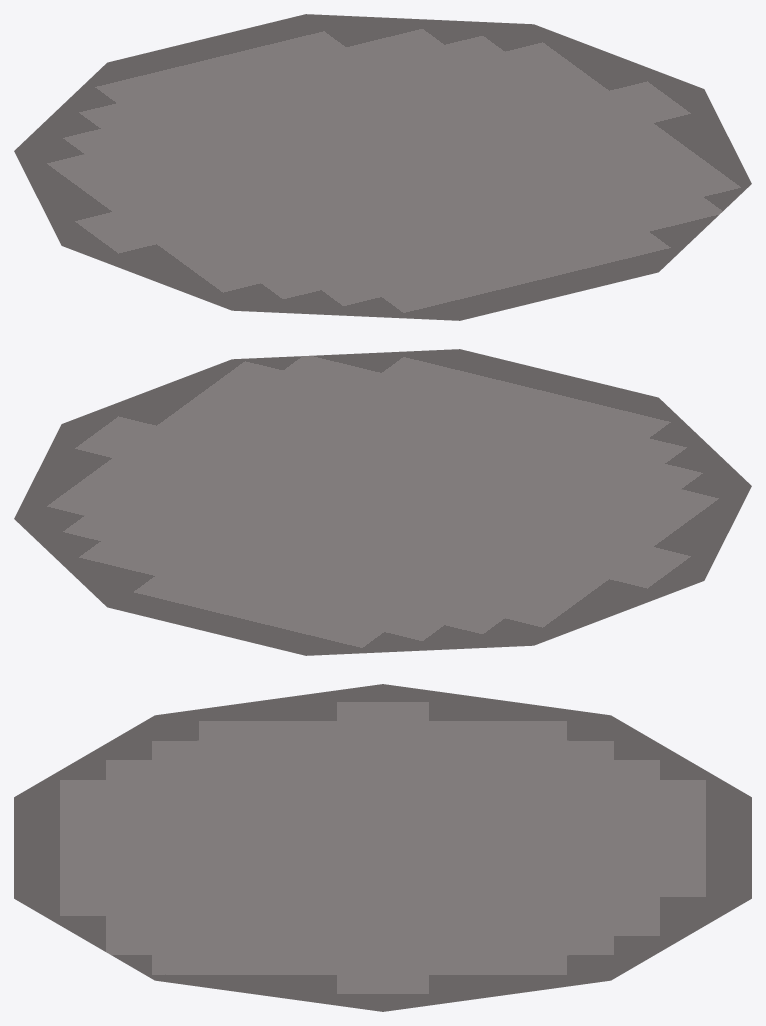
The model's file is pizza tray.gltf.
3 views of the same model, one above another, from view 1: azimuth 30°, elevation 25°; view 2: azimuth 150°, elevation 25°; view 3: azimuth 270°, elevation 25° (orthographic). The views are drawn at different scales.
Visible parts, largest first — view 1: circle; view 2: circle; view 3: circle.
Boxes of the visible parts, x1,y1,x2,y2 form: circle: [14, 14, 751, 320]; circle: [14, 349, 751, 655]; circle: [14, 684, 751, 1011].
Size of the model in its own units: 1.05 by 0 by 1.
1 material, 1 textured.
